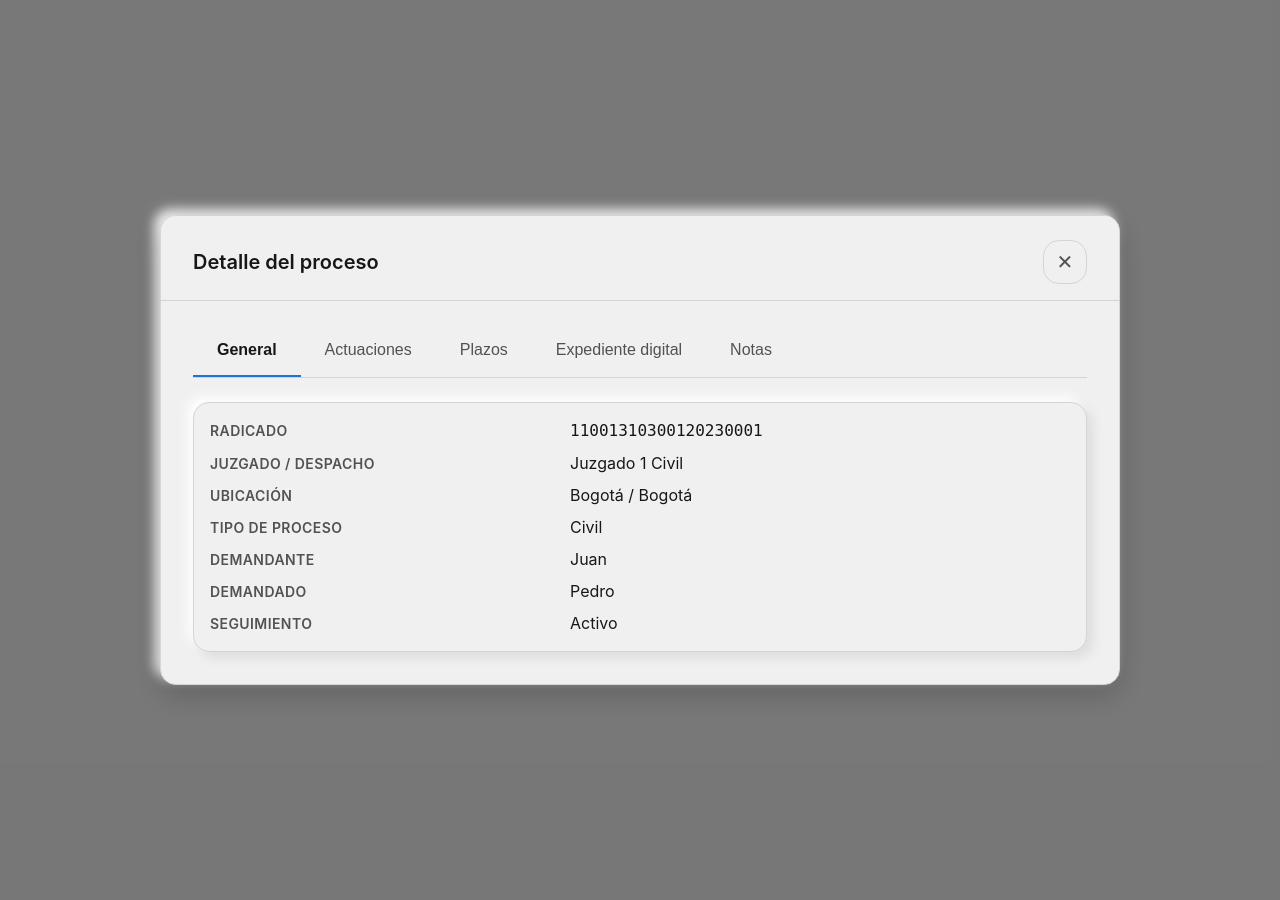
Test: ModalDetalle › muestra mensajes vacíos cuando no hay actuaciones ni plazos
Expected: the element showing "General Actuaciones Plazos Expediente digital Notas" is shown, [193,325,1087,378]
Navigate to Actuaciones tab
Click the tab "Actuaciones" at (368, 351), box [301,325,436,377]
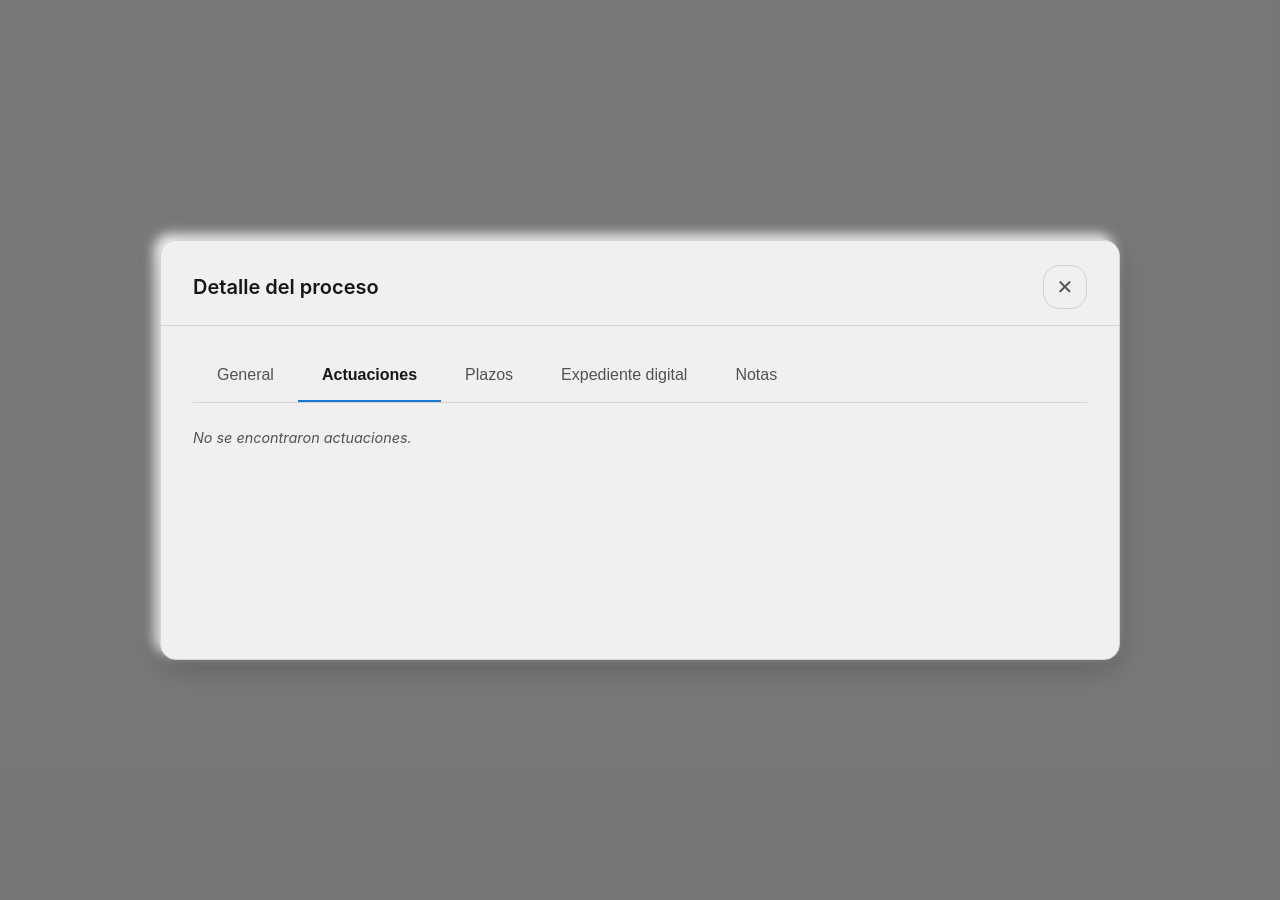
Expected: the text "No se encontraron actuaciones." is shown, [193,429,412,446]
Navigate to Plazos tab
Click the tab "Plazos" at (489, 376), box [441,350,537,402]
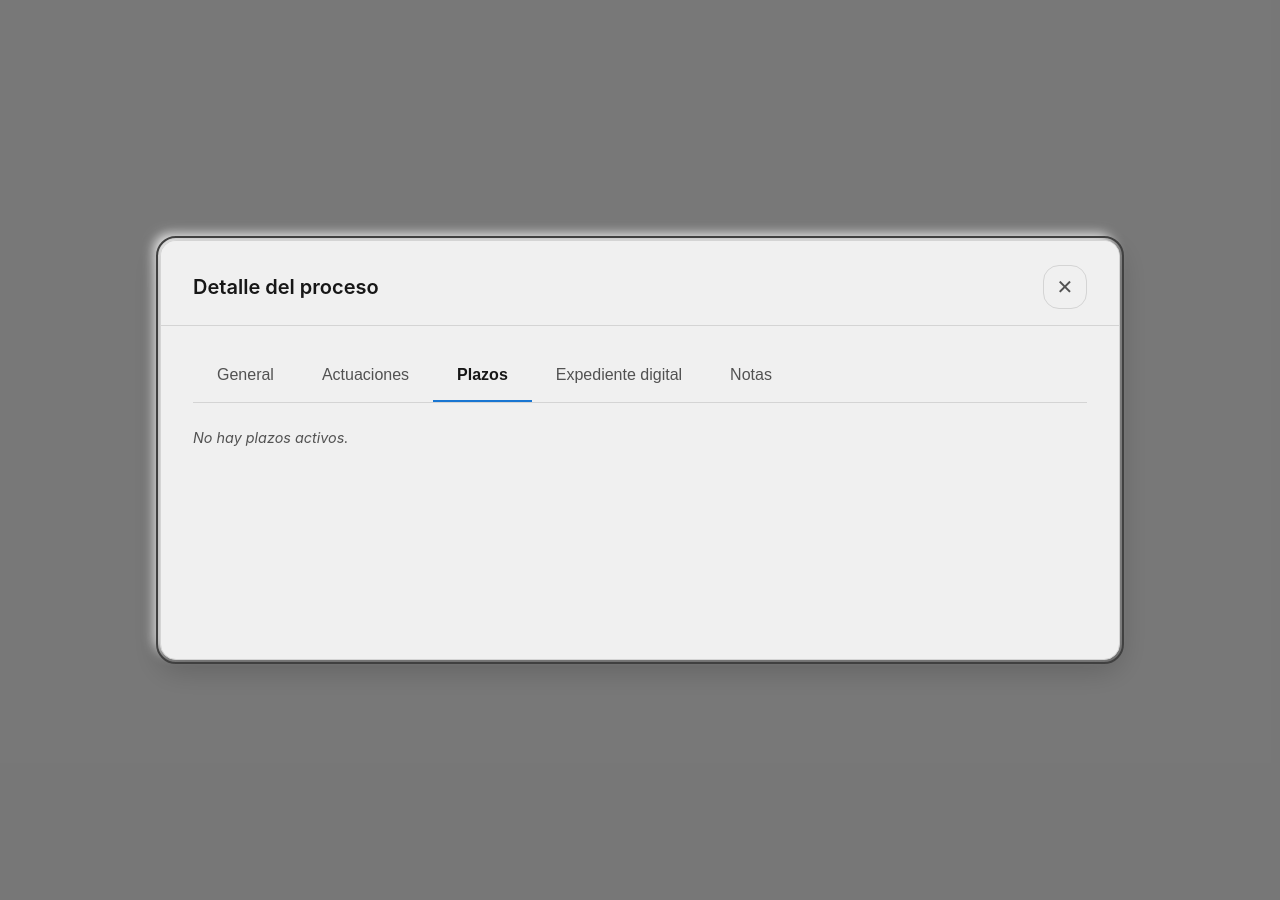
Expected: the text "No hay plazos activos." is shown, [193,429,348,446]
